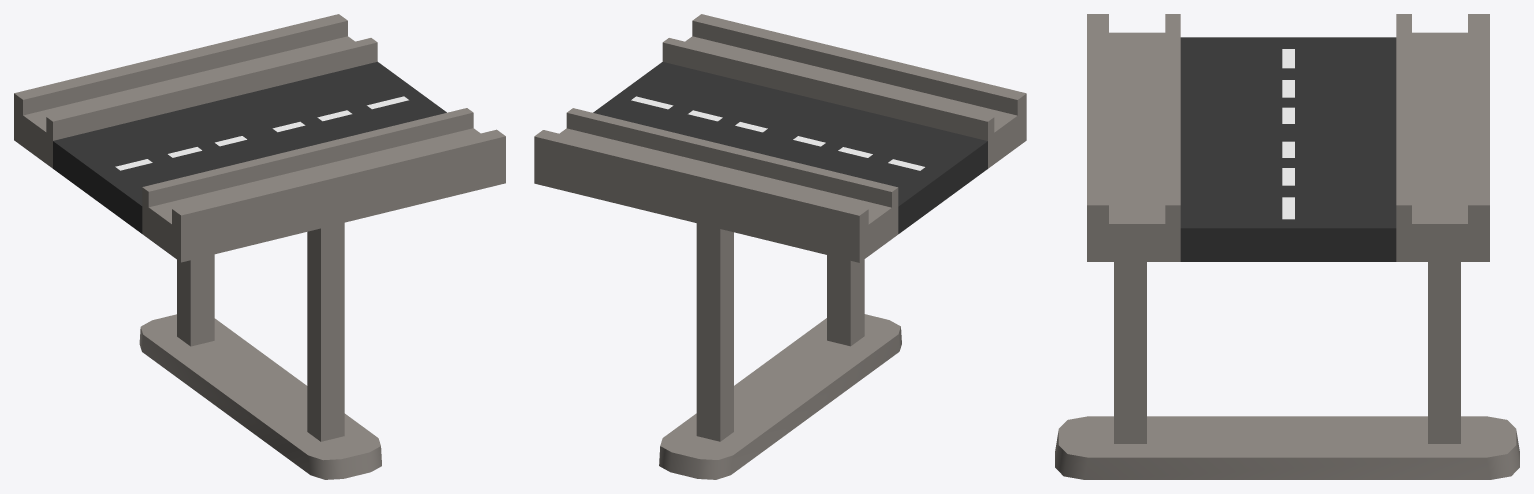
Rendered from Bridge Tile_2.fbx.
3 renders of one model, left to right at view 1: azimuth 30°, elevation 25°; view 2: azimuth 150°, elevation 25°; view 3: azimuth 270°, elevation 25°, orthographic. The views are drawn at different scales.
Visible parts, largest first — view 1: Bridge Tile_2; view 2: Bridge Tile_2; view 3: Bridge Tile_2.
Part boxes in pixels (box(x1,y1,x2,y2)): Bridge Tile_2: box(14, 14, 505, 479); Bridge Tile_2: box(534, 14, 1026, 479); Bridge Tile_2: box(1055, 14, 1519, 479).
Bounding box in the file's own units: 1500 × 1280 × 1541.
